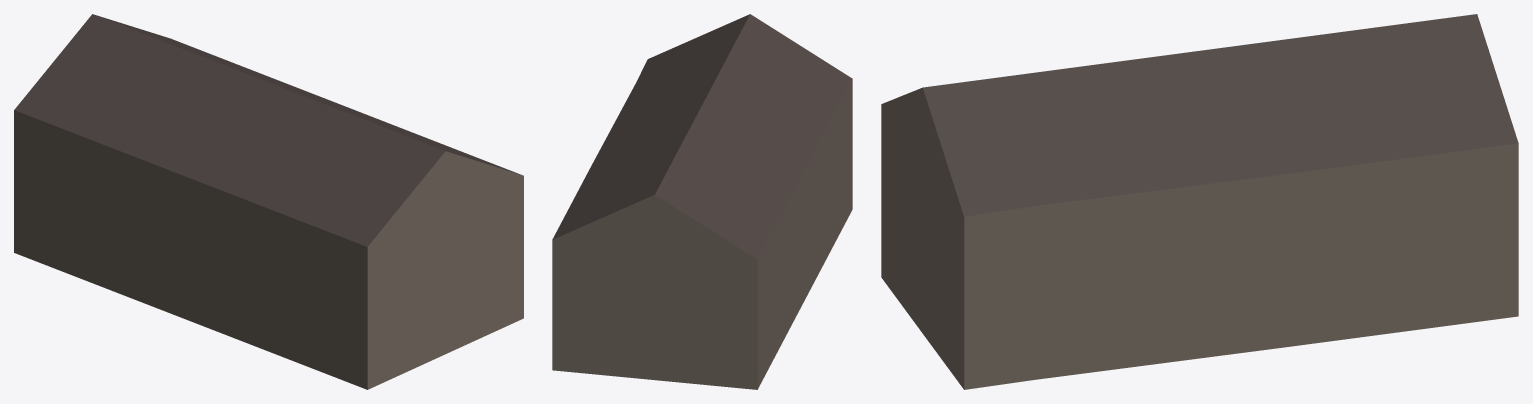
3 renders of one model, left to right at view 1: azimuth 30°, elevation 25°; view 2: azimuth 150°, elevation 25°; view 3: azimuth 270°, elevation 25°, orthographic. The views are drawn at different scales.
Parts seen in each view (by area): view 1: HP-w1198645067; view 2: HP-w1198645067; view 3: HP-w1198645067.
Boxes of the visible parts, x1,y1,x2,y2 form: HP-w1198645067: (14, 14, 523, 389); HP-w1198645067: (552, 14, 852, 389); HP-w1198645067: (881, 14, 1518, 389).
Bounding box in the file's own units: 13.85 × 8.53 × 20.03.
